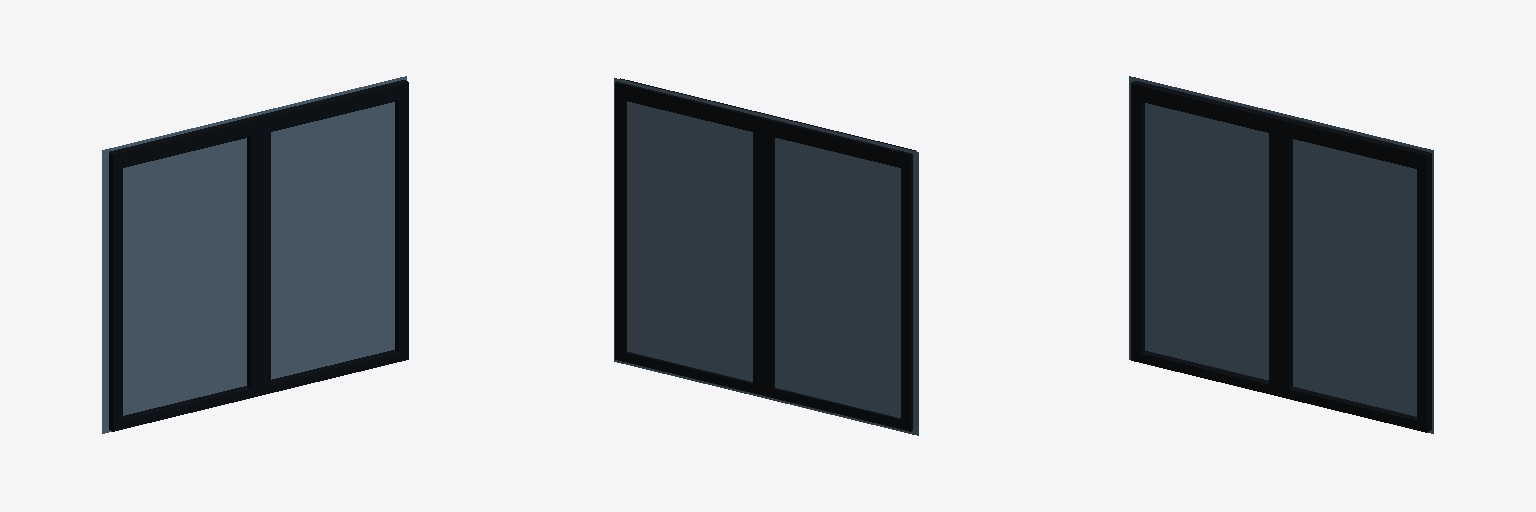
Rendered from chuang13.obj.
The picture shows the model from 3 angles: view 1: azimuth 30°, elevation 25°; view 2: azimuth 150°, elevation 25°; view 3: azimuth 330°, elevation 25°; orthographic projection.
Visible parts, largest first — view 1: Rectangle[number redacted], Rectangle[number redacted]; view 2: Rectangle[number redacted], Rectangle[number redacted]; view 3: Rectangle[number redacted], Rectangle[number redacted].
Boxes of the visible parts, box(x1,y1,x2,y2) form: Rectangle[number redacted]: box(102, 76, 406, 433); Rectangle[number redacted]: box(109, 80, 408, 431); Rectangle[number redacted]: box(614, 78, 918, 435); Rectangle[number redacted]: box(615, 78, 915, 431); Rectangle[number redacted]: box(1129, 76, 1433, 433); Rectangle[number redacted]: box(1131, 81, 1431, 432).
Size of the model in its own units: 18 by 16.04 by 0.6.